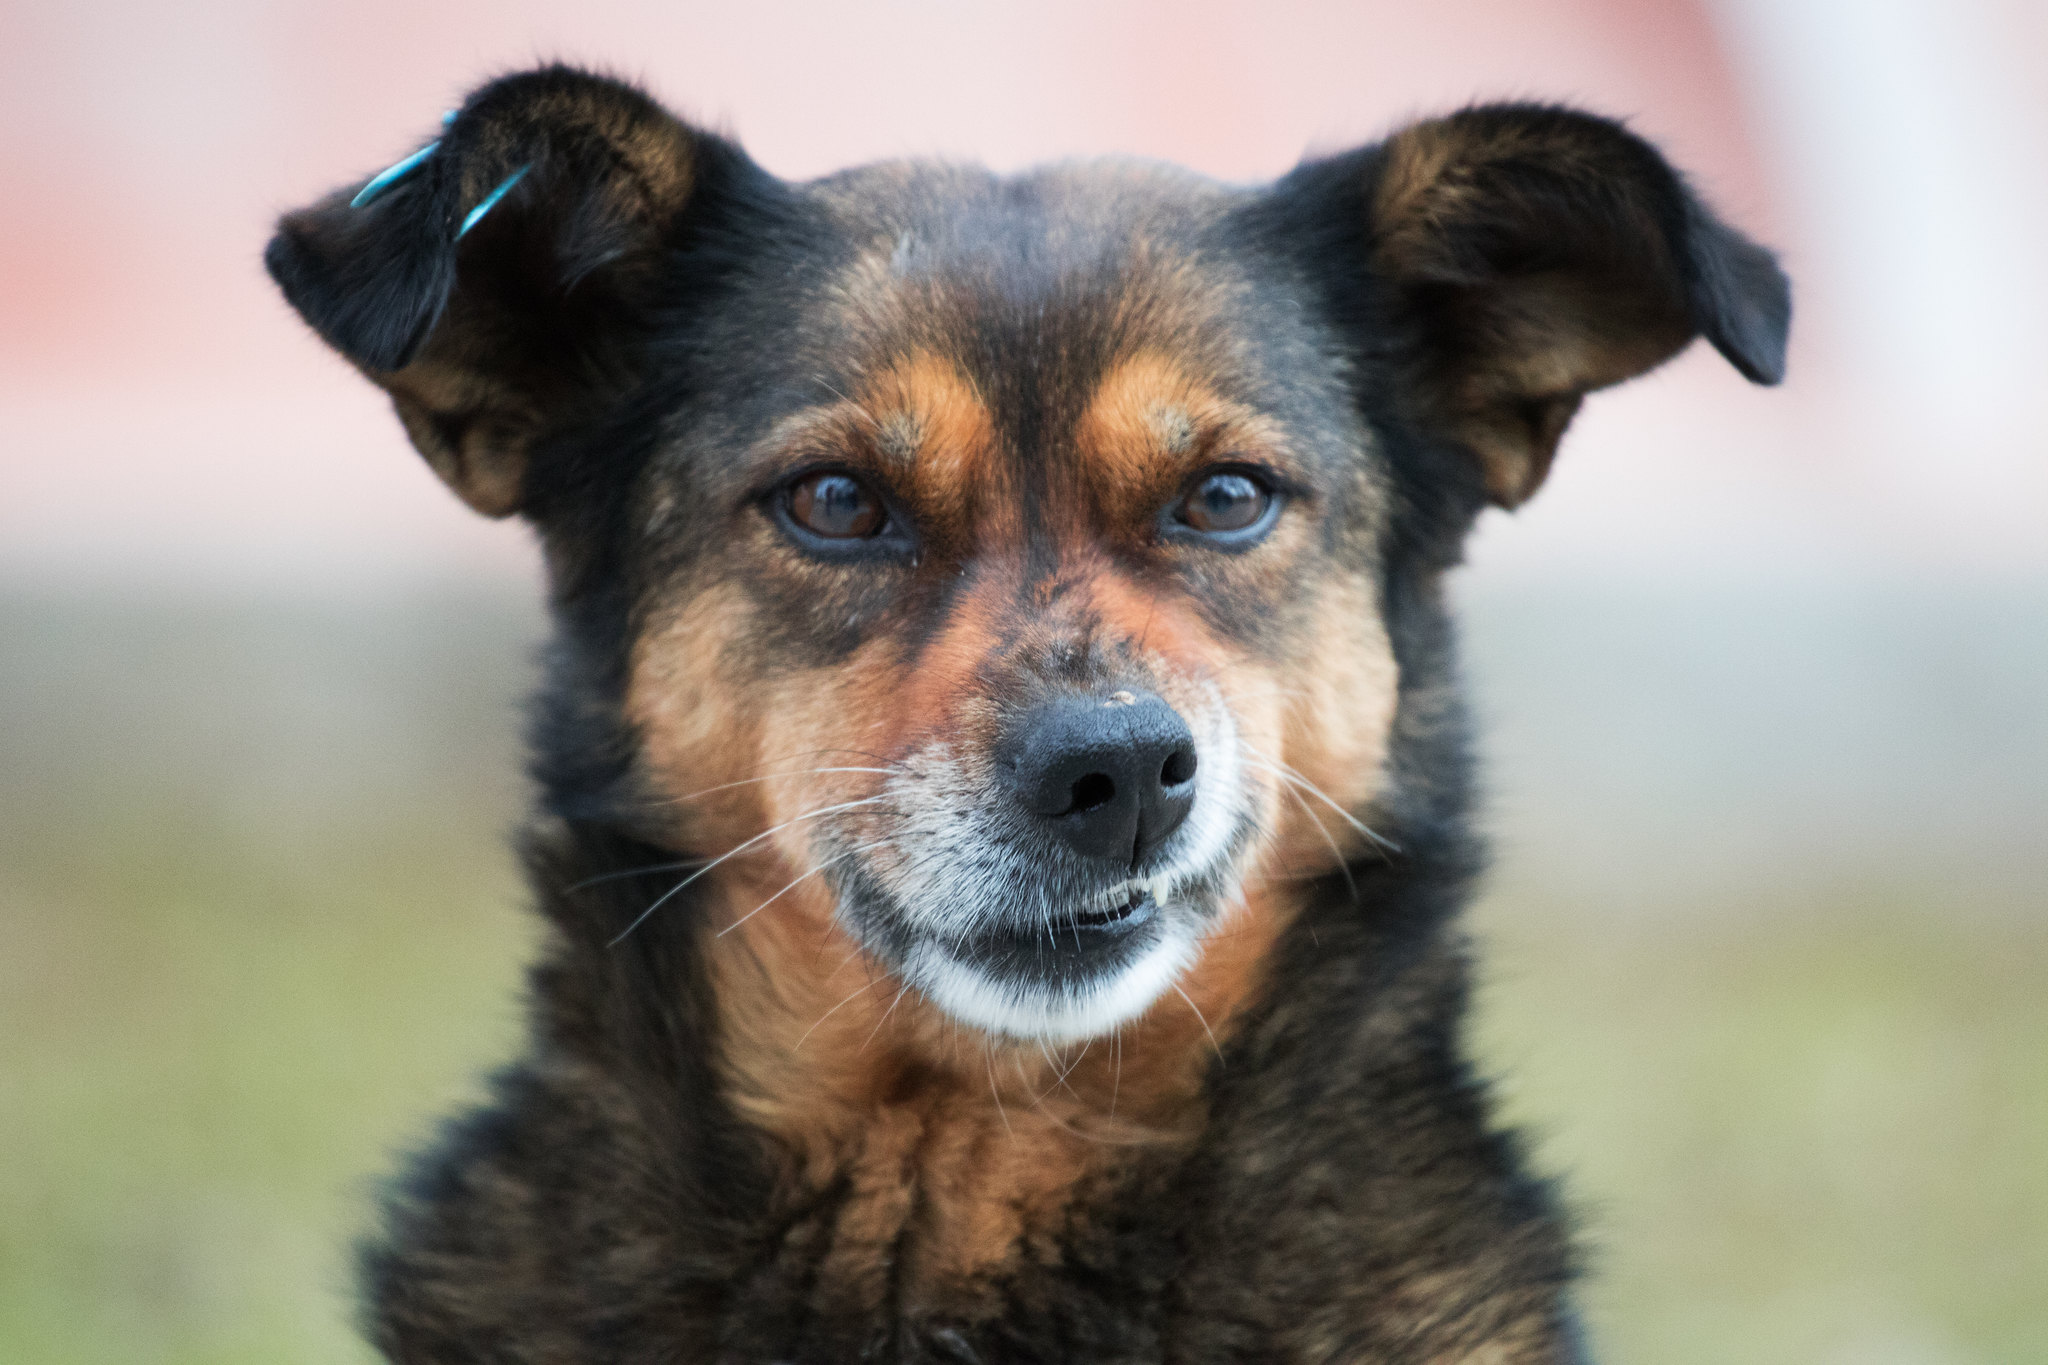dog: (254, 49, 1696, 1351)
